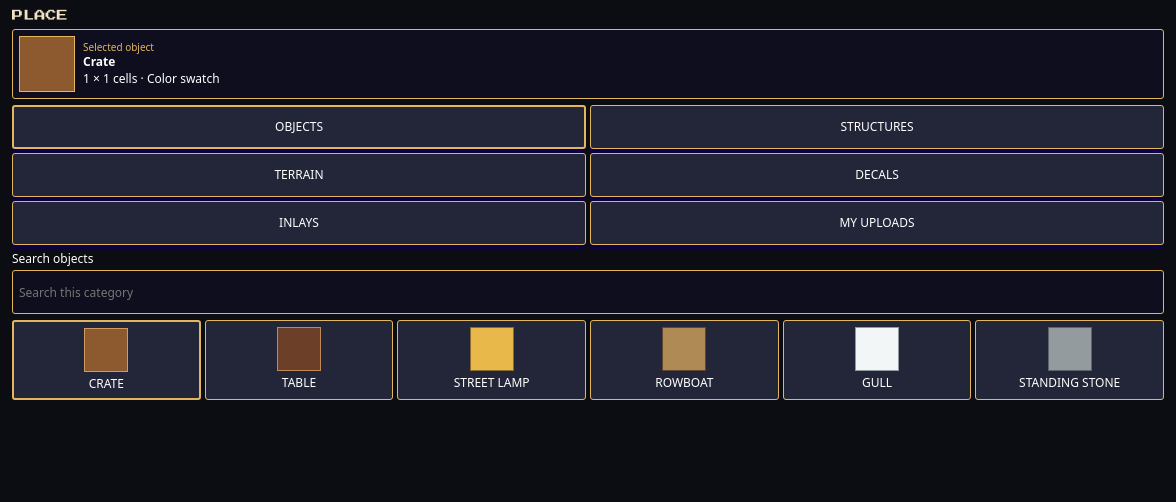
Test case: MobileAssetPicker — My uploads › shows the upload field and NOT the bundled fallback when empty
Click the button "My uploads".
click(877, 223)  # box [590,201,1164,245]
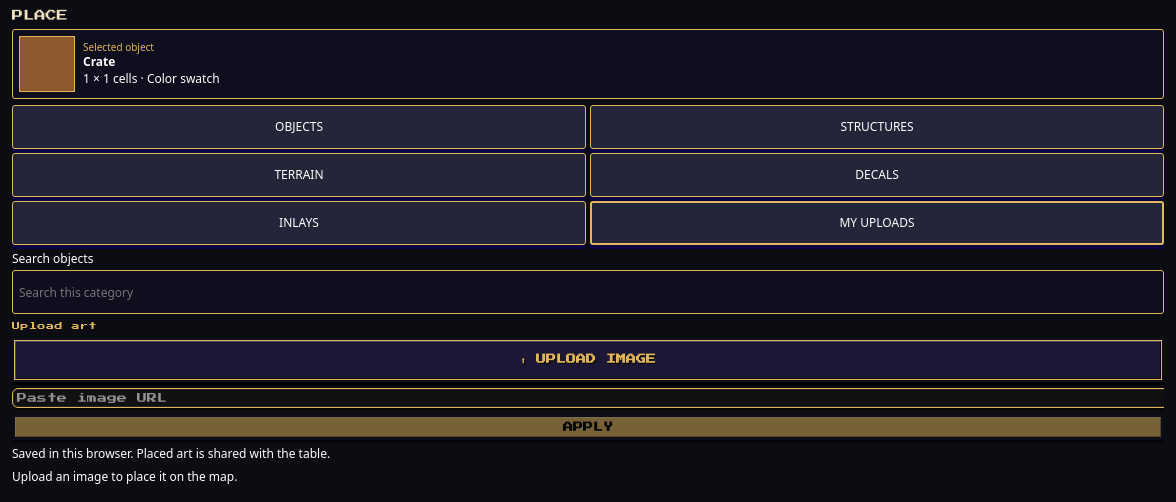
Now the field labelled "Upload art" is shown, box [12,388,1164,408]
Now the text "Upload an image to place it on the map." is shown, box [12,468,237,485]
